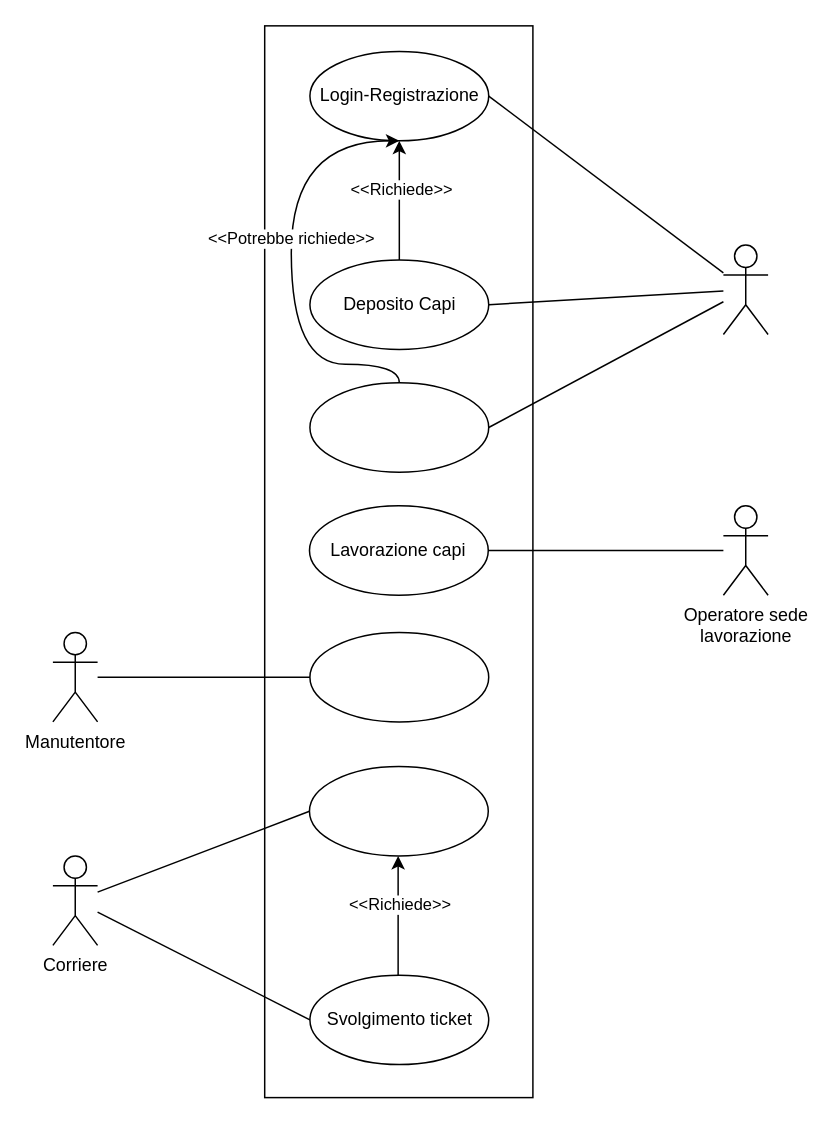
Some shapes in this 833 by 1125 pixel diagram are drawn without their labels. The shapes that lost their labels are listed below. From the top down, each one's box as (x1, y1, x2, y2) in pixels, then its label:
(722, 244, 768, 335): Cliente
(308, 381, 489, 472): Ritiro capi
(308, 631, 489, 722): Manutenzione macchinari
(308, 765, 488, 856): Consult/accett ticket
